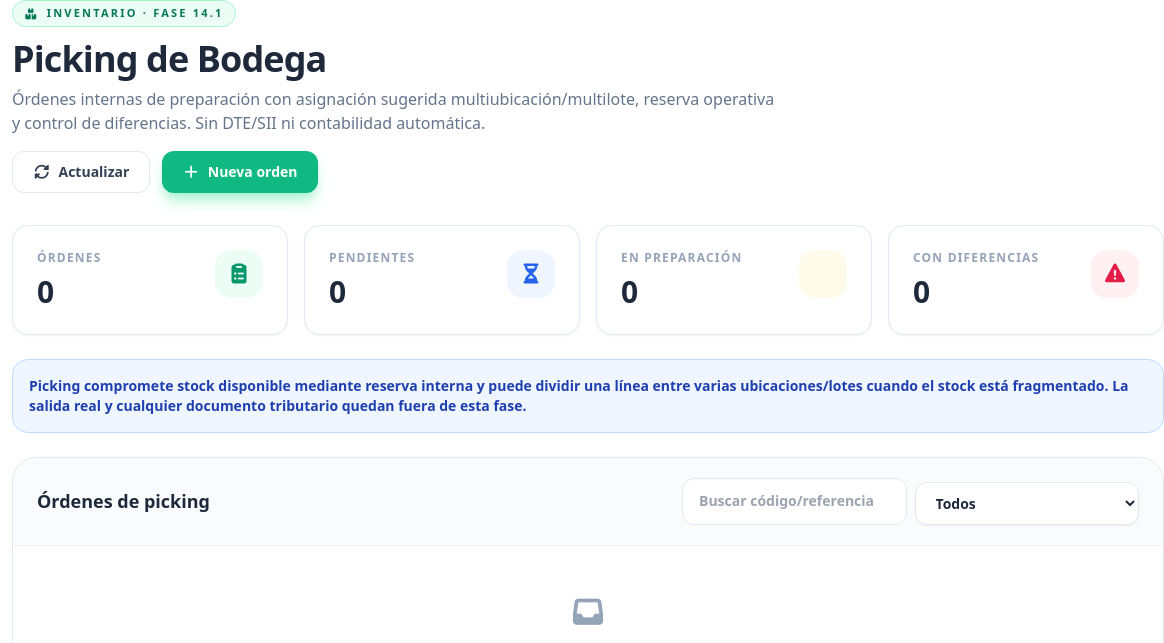
Test: PickingInventario (vista) › abre el formulario al hacer clic en "Nueva orden"
Click the button "Nueva orden" at (240, 172), box [162,151,318,193]
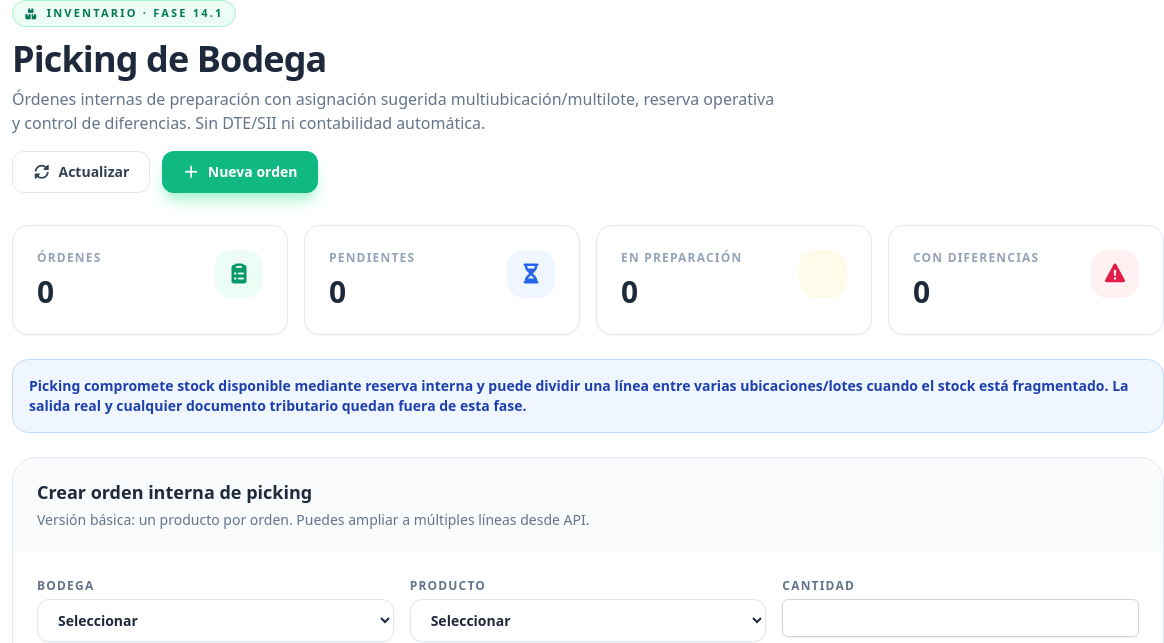
Result: the heading "Crear orden interna de picking" is shown at [37,480,312,504]
